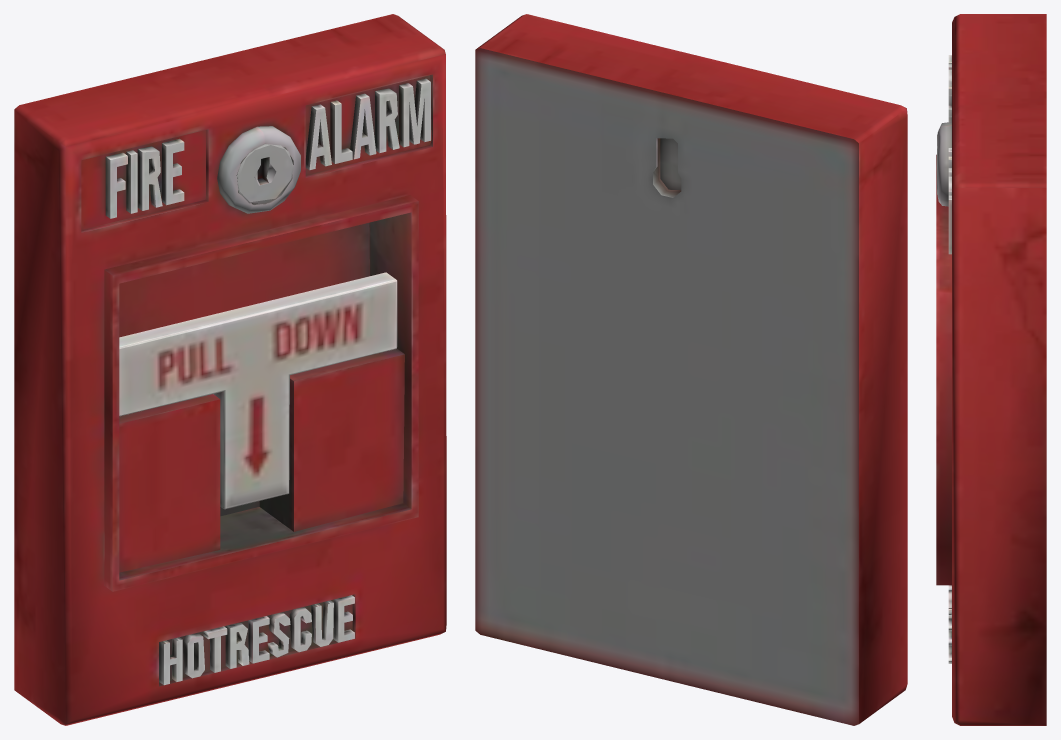
The model's file is fireAlarm.glb.
3 renders of one model, left to right at view 1: azimuth 30°, elevation 25°; view 2: azimuth 150°, elevation 25°; view 3: azimuth 270°, elevation 25°, orthographic. The views are drawn at different scales.
Visible parts, largest first — view 1: fire_alarm, fire_alarm_lever; view 2: fire_alarm; view 3: fire_alarm.
Part boxes in pixels (box(x1,y1,x2,y2)): fire_alarm: box(14, 14, 446, 725); fire_alarm_lever: box(119, 272, 397, 509); fire_alarm: box(475, 14, 907, 725); fire_alarm: box(936, 14, 1046, 725).
Bounding box in the file's own units: 0.0994 × 0.1436 × 0.0264.
1 material, 1 textured.
